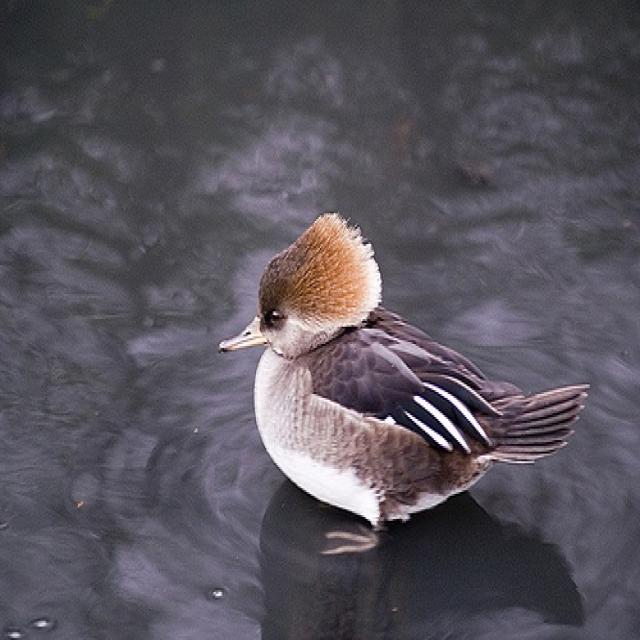bird: (216, 210, 594, 563)
